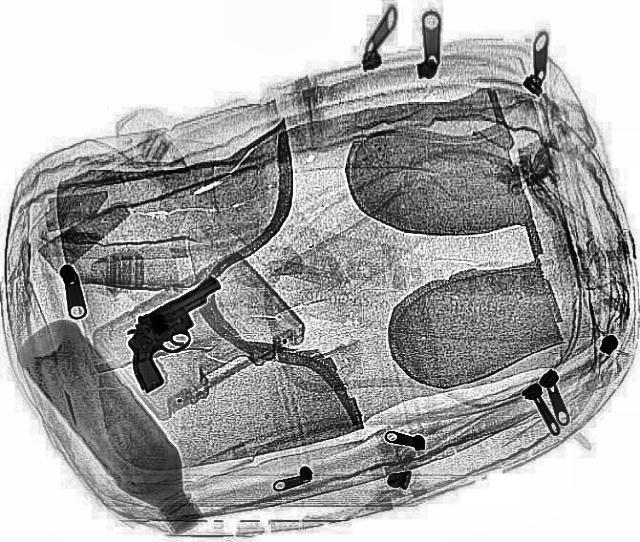Gun: (95, 273, 263, 393)
